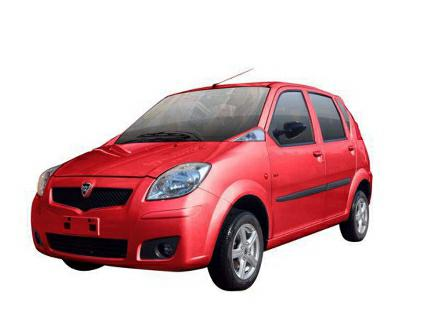哈飞-路宝: (21, 67, 388, 295)
